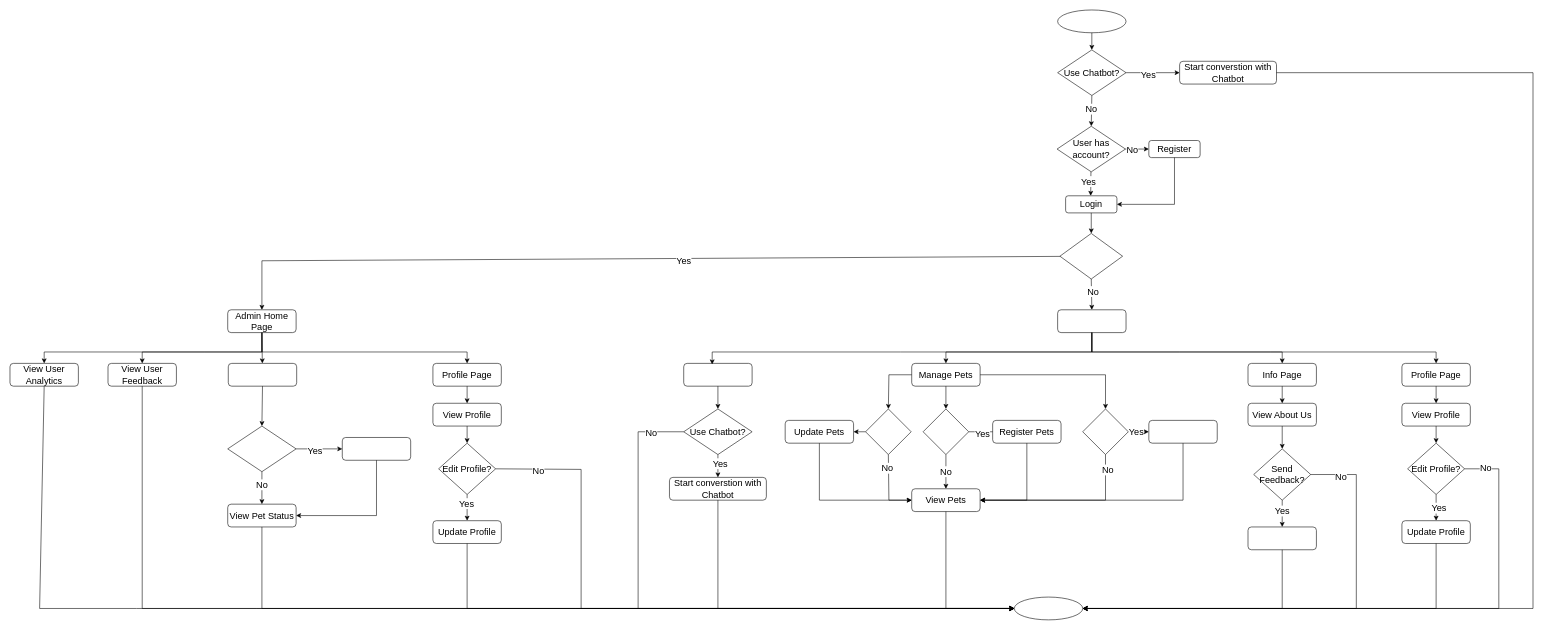
The diagram is 1548 pixels wide and 630 high, and some of its shapes have lost their labels. Each missing label, with the box of its shape:
Add pets?: (923, 408, 969, 455)
Add Vaccine Status: (342, 437, 411, 460)
Add Vaccine Status?: (227, 426, 296, 472)
Are you an Admin?: (1059, 233, 1123, 279)
Chatbot: (683, 363, 752, 386)
Delete Pets: (1148, 420, 1217, 443)
Delete Pets?: (1082, 408, 1128, 455)
Edit Pets?: (865, 408, 911, 455)
End: (1014, 597, 1083, 620)
Manage Pet Status: (228, 363, 297, 386)
Send feedback: (1247, 526, 1316, 550)
Start: (1057, 9, 1126, 33)
User Home Page: (1057, 309, 1126, 333)
